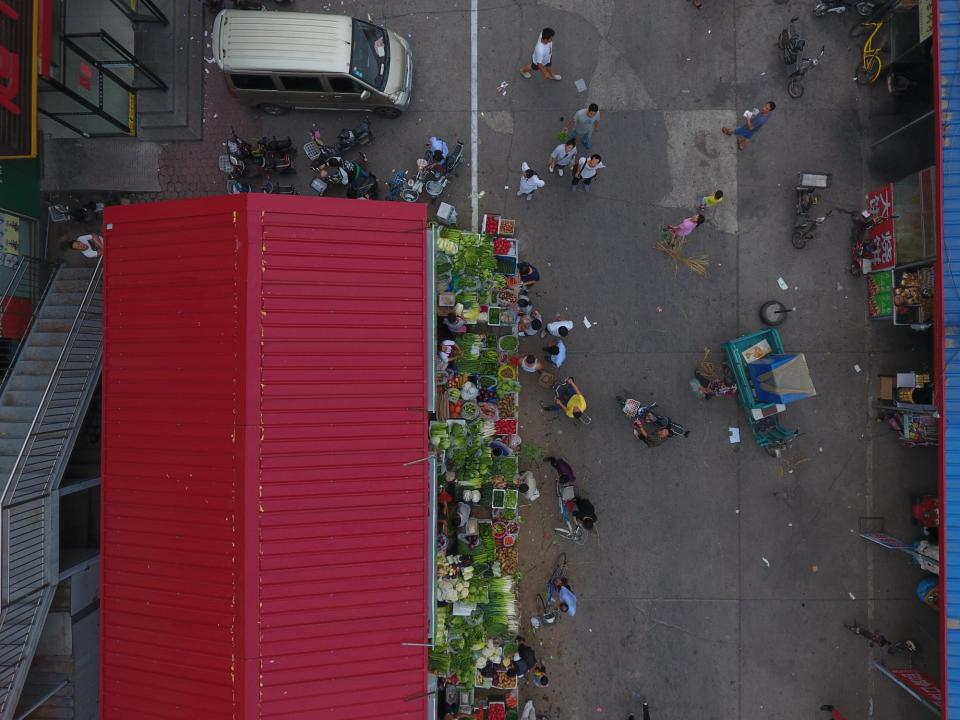van: (213, 9, 414, 119)
